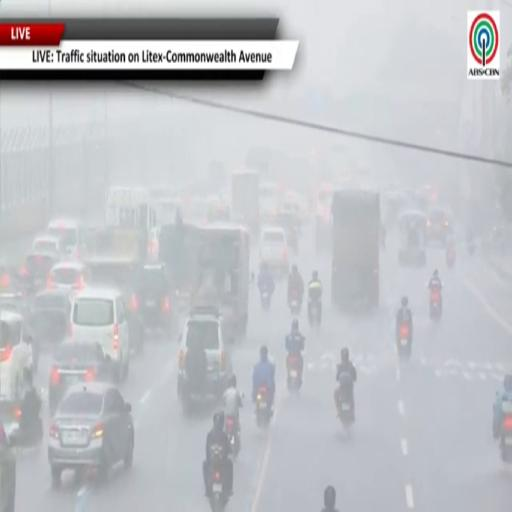car: (48, 382, 134, 487), (69, 287, 130, 381), (178, 307, 232, 408), (48, 340, 112, 413), (131, 263, 175, 331), (0, 311, 33, 401), (26, 291, 70, 346), (22, 250, 60, 293), (47, 218, 85, 259), (398, 211, 426, 266), (259, 227, 289, 276), (47, 261, 91, 293), (0, 423, 16, 510), (274, 212, 299, 253), (427, 207, 452, 247), (0, 266, 25, 294), (32, 233, 65, 254), (207, 200, 230, 222)
motorcycle: (209, 445, 227, 511), (337, 380, 354, 429), (225, 416, 241, 457), (499, 415, 512, 463), (256, 387, 271, 427), (287, 355, 302, 392), (397, 324, 411, 358), (430, 286, 441, 322), (309, 300, 320, 328), (289, 292, 300, 315), (261, 287, 270, 311), (446, 248, 455, 268), (468, 240, 475, 255)
truck: (191, 223, 250, 343), (331, 189, 380, 311), (231, 170, 259, 236)
